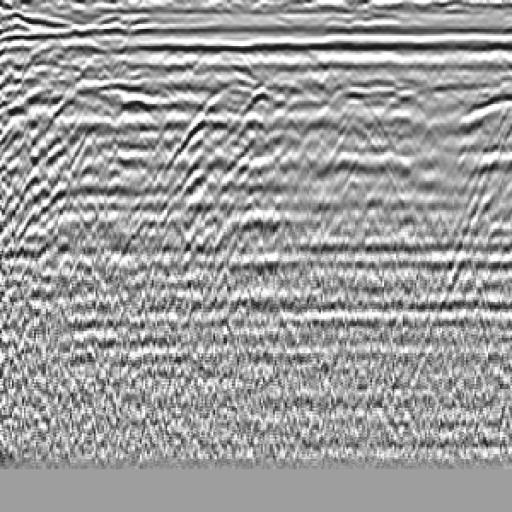metalic: (230, 74, 291, 134)
